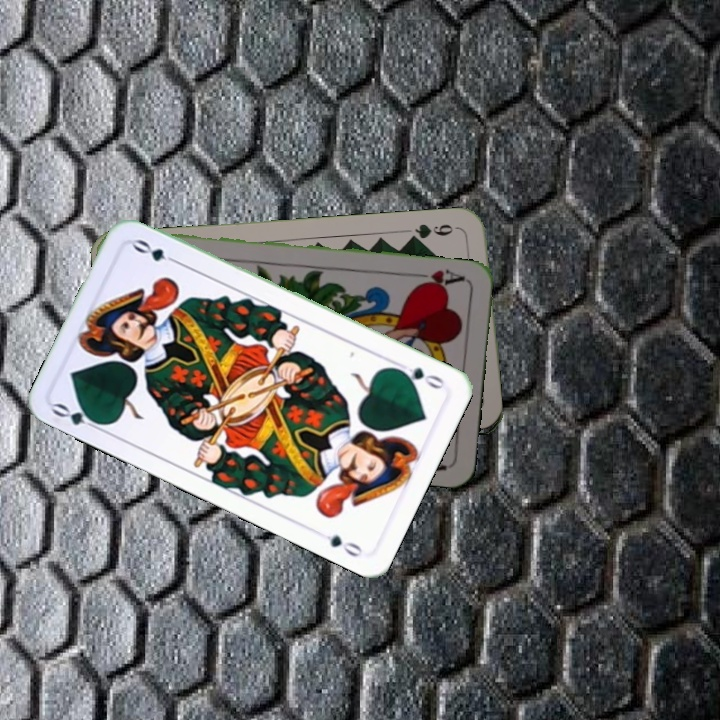G9: (405, 219, 464, 244)
GO: (48, 399, 107, 434), (390, 358, 447, 392)
HA: (410, 264, 468, 292)
